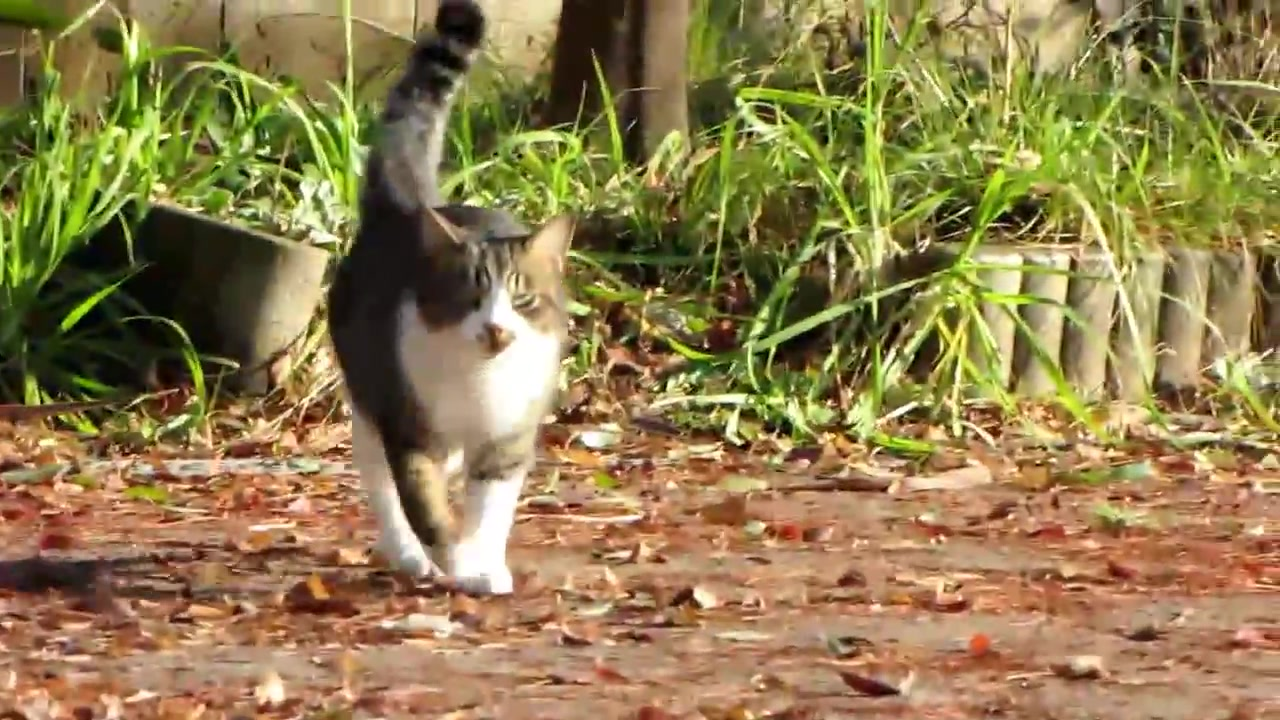cat: (319, 2, 578, 598)
